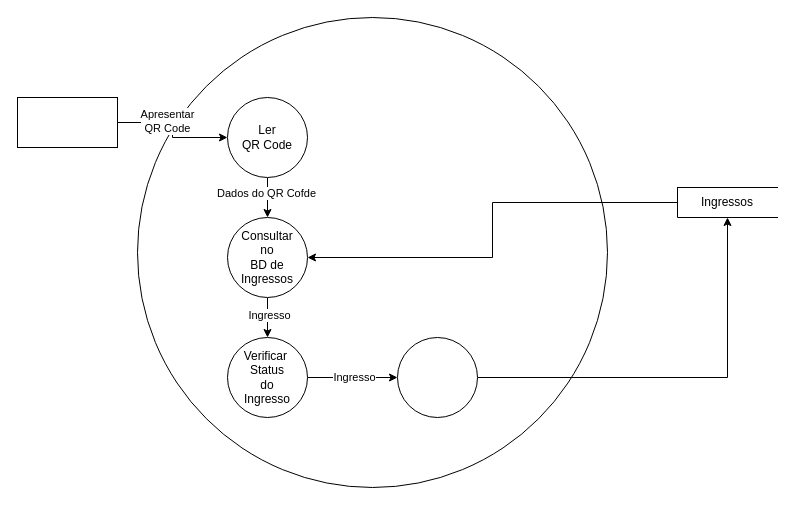
This 795x505 diagram has some shape labels left out. The box of each missing label's shape, as (x1, y1, x2, y2) in pixels:
Empresa: (16, 96, 118, 148)
Ingresso Valido: (396, 336, 478, 418)
